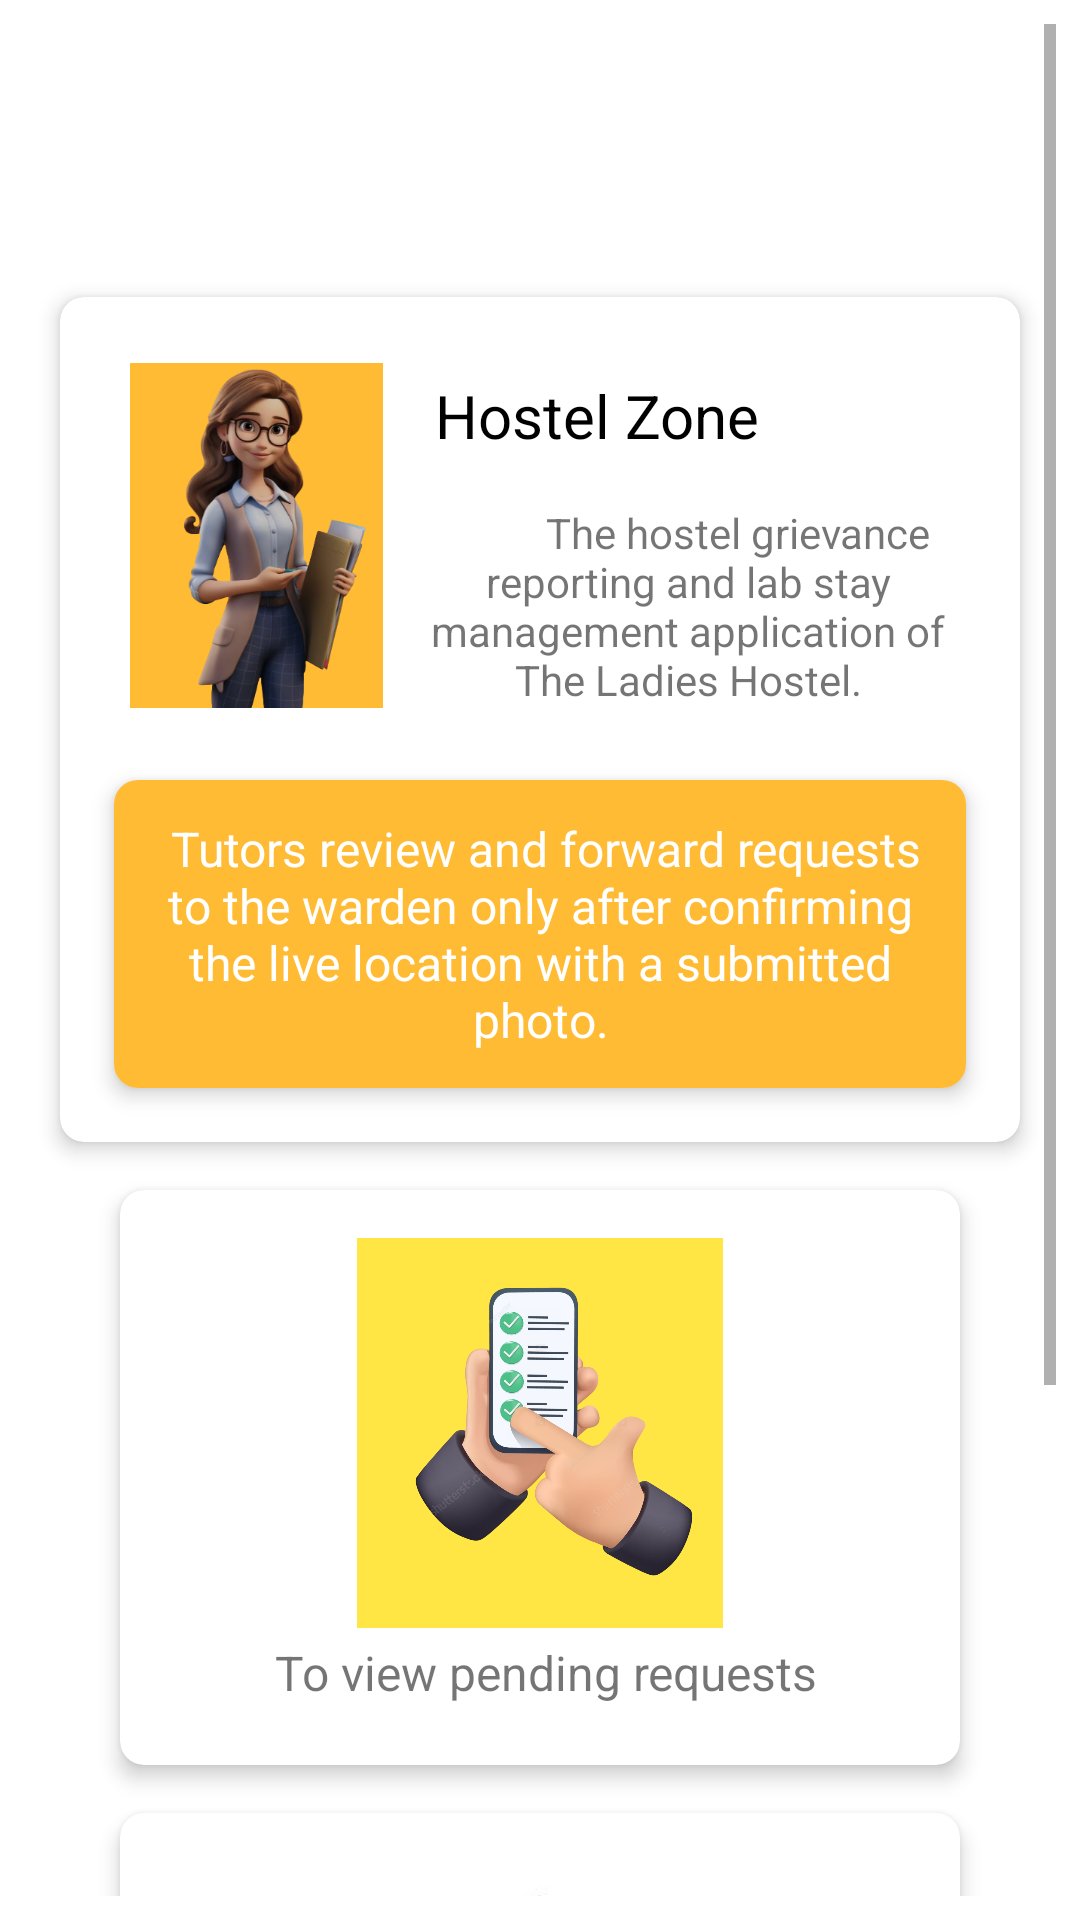

Where icons sit on this 1080w x 1920h app screen, as bbox=[x1, y1, x2, y2]:
tutorfemaleyellow: bbox=[130, 363, 383, 708]
